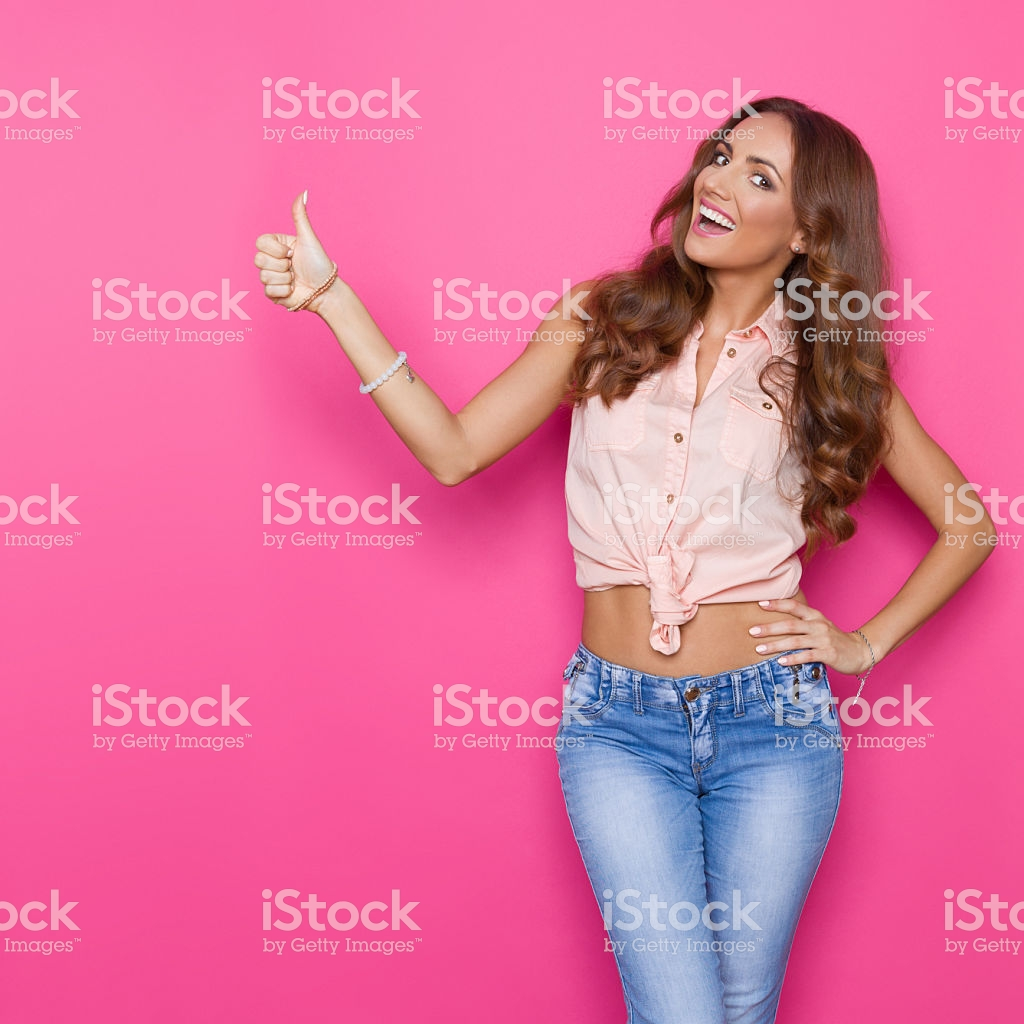thumbsup: (254, 188, 334, 314)
